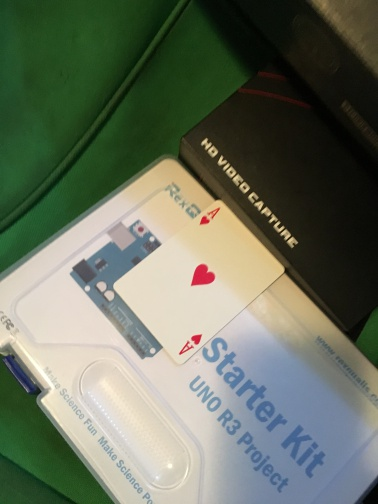ace: (112, 199, 287, 365)
